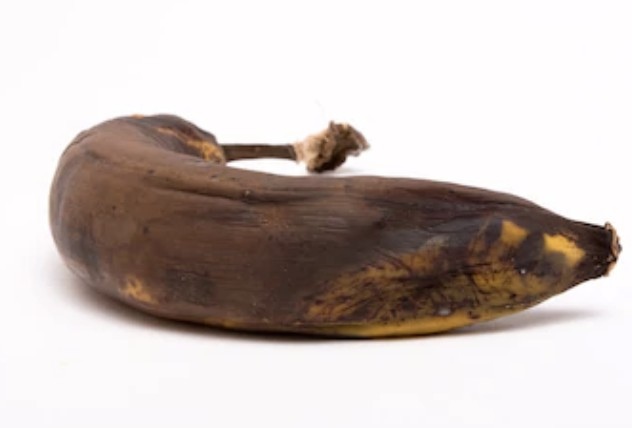rotten_banana: (48, 113, 621, 341)
